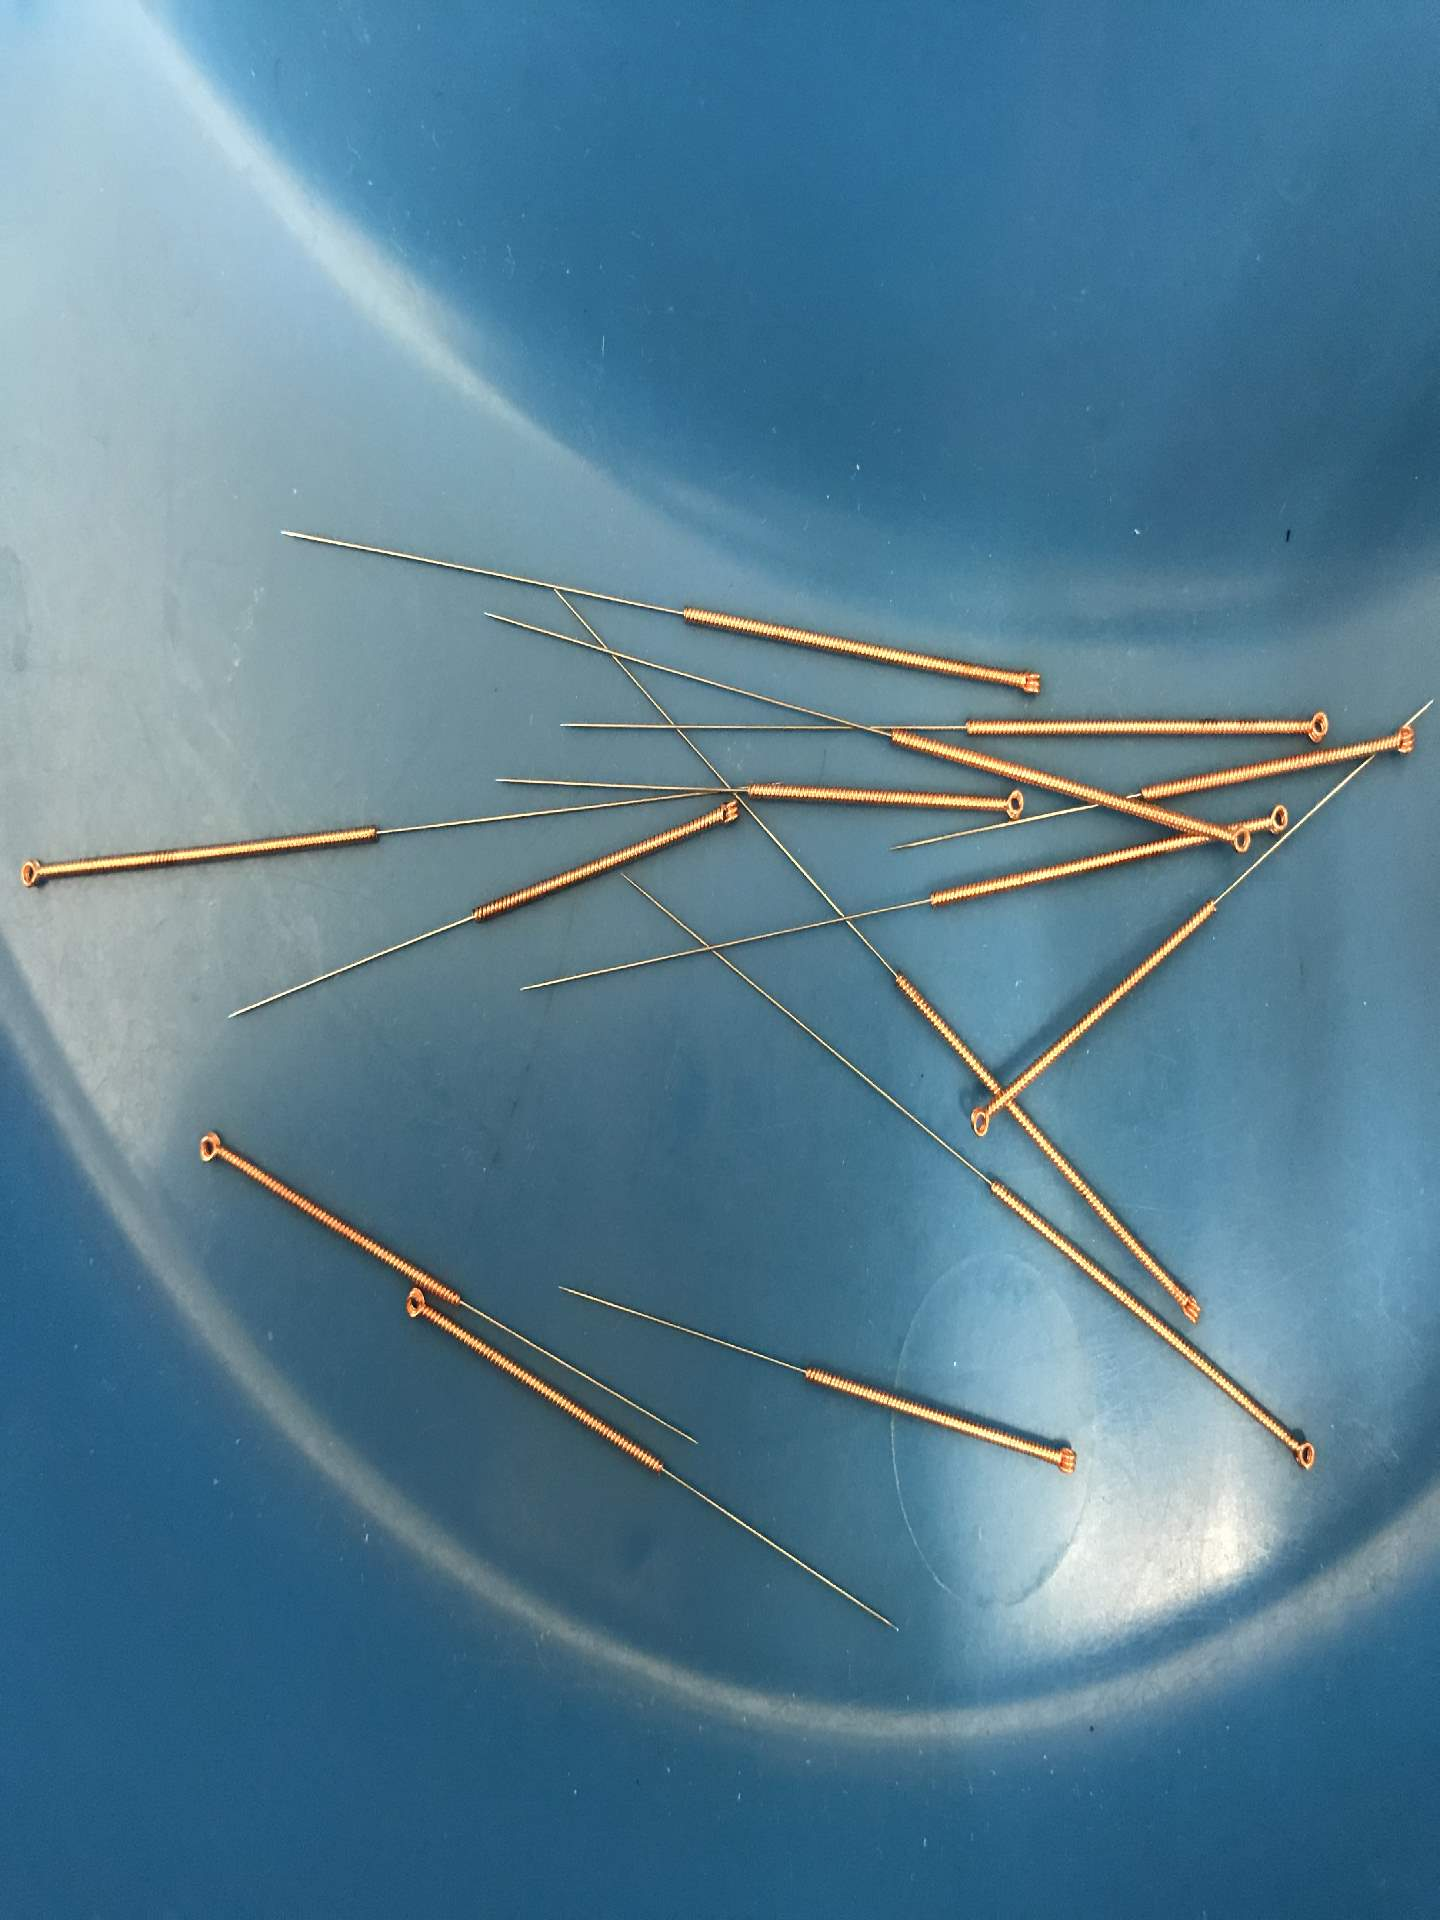needle: (1041, 1429, 1086, 1488), (188, 1120, 233, 1175), (1284, 1427, 1327, 1482), (989, 779, 1035, 828), (1006, 659, 1051, 708), (14, 850, 57, 900), (1383, 714, 1423, 766), (961, 1093, 1001, 1146), (1296, 701, 1339, 750), (392, 1279, 434, 1327), (1171, 1282, 1212, 1332), (708, 791, 746, 838), (1258, 797, 1296, 844), (1215, 821, 1254, 859)
